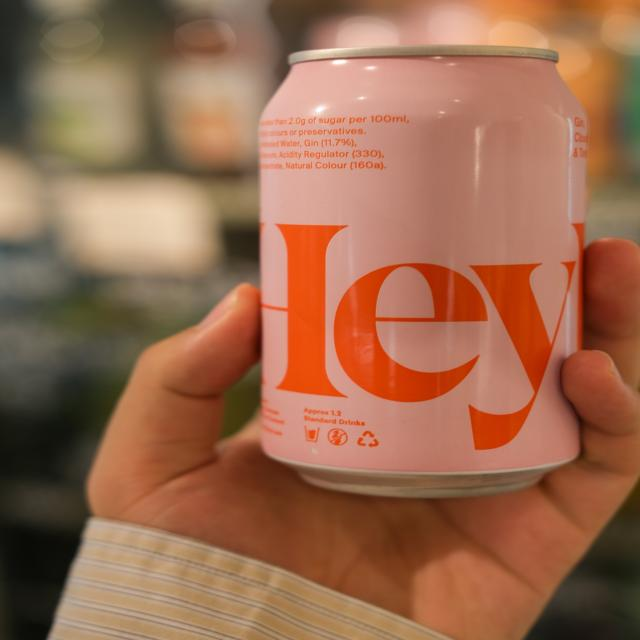can: (258, 46, 581, 498)
